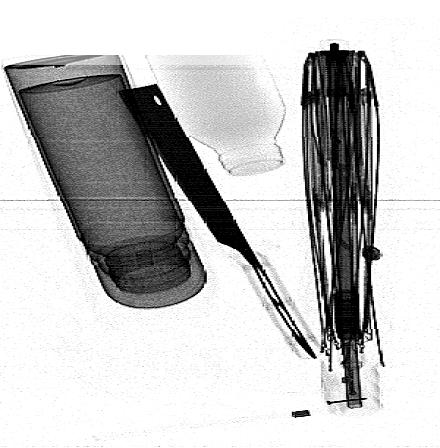Knife: (117, 83, 318, 358)
